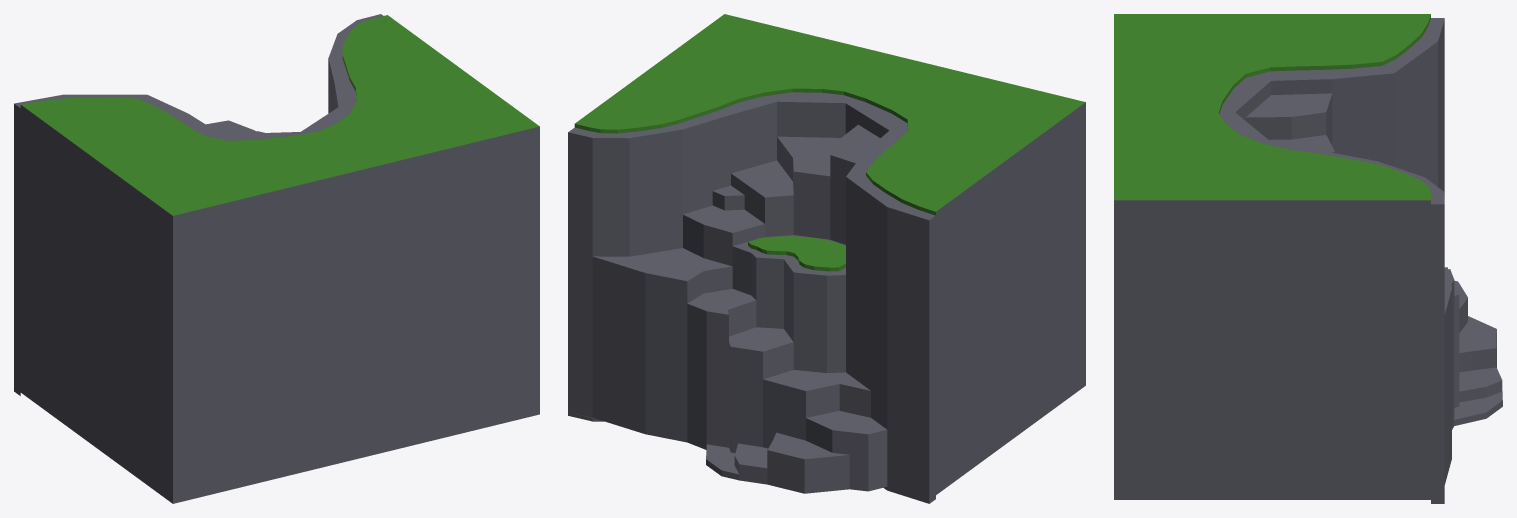
The model's file is Stair1.fbx.
3 renders of one model, left to right at view 1: azimuth 30°, elevation 25°; view 2: azimuth 150°, elevation 25°; view 3: azimuth 270°, elevation 25°, orthographic. The views are drawn at different scales.
Visible parts, largest first — view 1: Plane.003; view 2: Plane.003; view 3: Plane.003.
Boxes of the visible parts, bbox=[...] form: Plane.003: bbox=[14, 14, 539, 503]; Plane.003: bbox=[568, 14, 1085, 503]; Plane.003: bbox=[1114, 14, 1502, 503].
Size of the model in its own units: 100 by 76 by 88.17.
